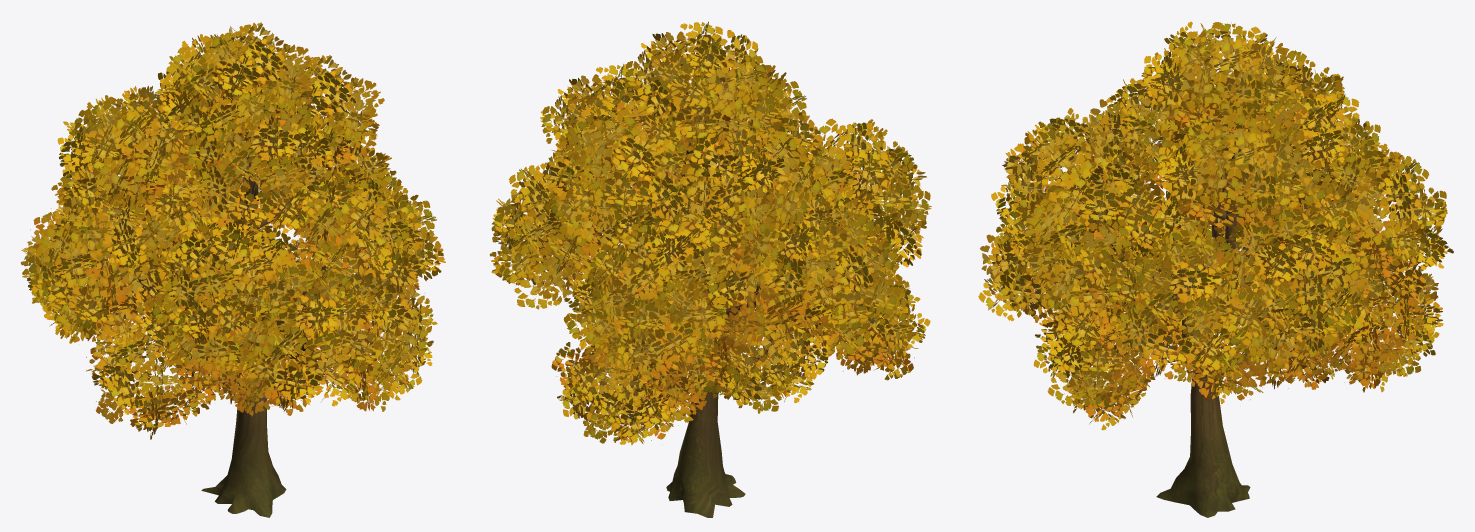
File: FSF_Tree_002.FBX
3 views of the same model, side by side, from view 1: azimuth 30°, elevation 25°; view 2: azimuth 150°, elevation 25°; view 3: azimuth 270°, elevation 25° (orthographic).
Parts seen in each view (by area): view 1: FSF_leaves_002, FSF_trunk_002; view 2: FSF_leaves_002, FSF_trunk_002; view 3: FSF_leaves_002, FSF_trunk_002.
Boxes of the visible parts, x1=… form: FSF_leaves_002: x1=20, y1=22, x2=445, y2=439; FSF_trunk_002: x1=129, y1=140, x2=355, y2=517; FSF_leaves_002: x1=489, y1=21, x2=931, y2=445; FSF_trunk_002: x1=612, y1=142, x2=802, y2=517; FSF_leaves_002: x1=978, y1=21, x2=1453, y2=430; FSF_trunk_002: x1=1042, y1=124, x2=1276, y2=517.
Size of the model in its own units: 407 by 473 by 441.
